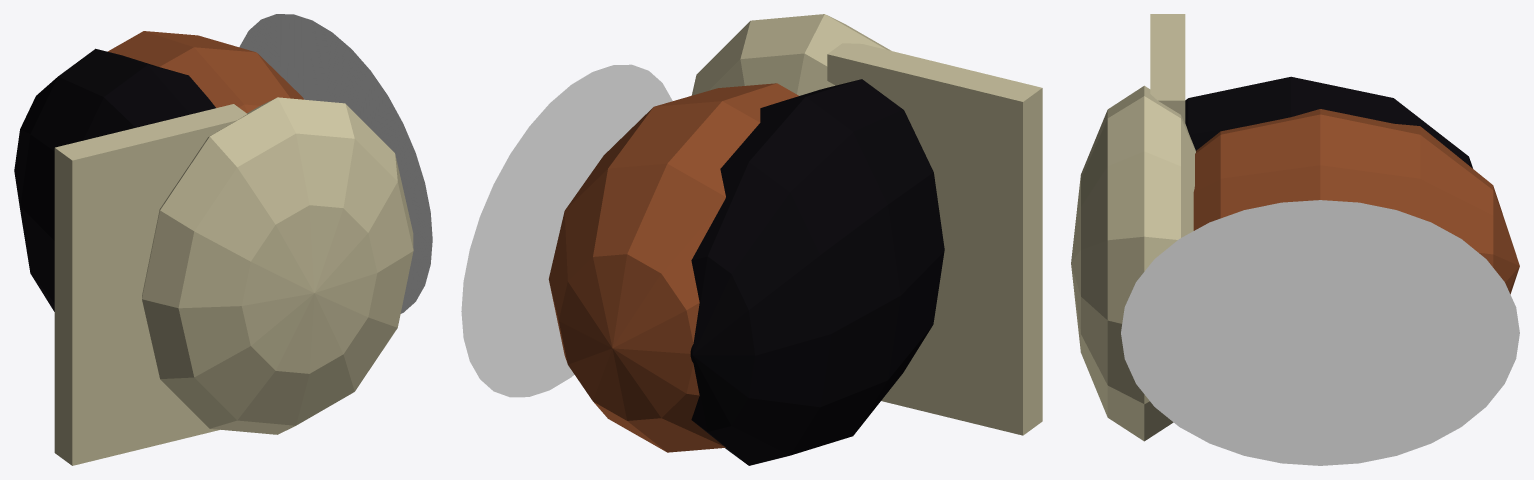
Rendered from Resident6Head.obj.
3 renders of one model, left to right at view 1: azimuth 30°, elevation 25°; view 2: azimuth 150°, elevation 25°; view 3: azimuth 270°, elevation 25°, orthographic. The views are drawn at different scales.
Parts seen in each view (by area): view 1: Resident6Head; view 2: Resident6Head; view 3: Resident6Head.
Boxes of the visible parts, box(x1,y1,x2,y2) form: Resident6Head: box(14, 14, 432, 465); Resident6Head: box(461, 14, 1042, 465); Resident6Head: box(1071, 14, 1519, 465).
Bounding box in the file's own units: 67.5 × 63 × 76.5.
